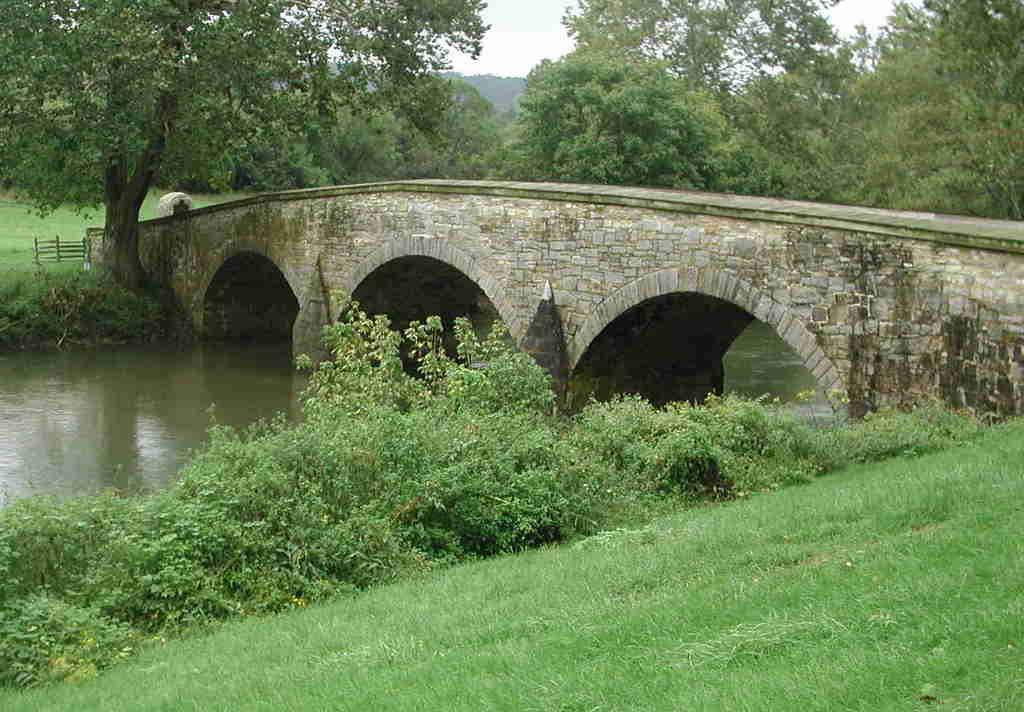Tree: (177, 0, 1024, 219), (0, 0, 490, 294)
